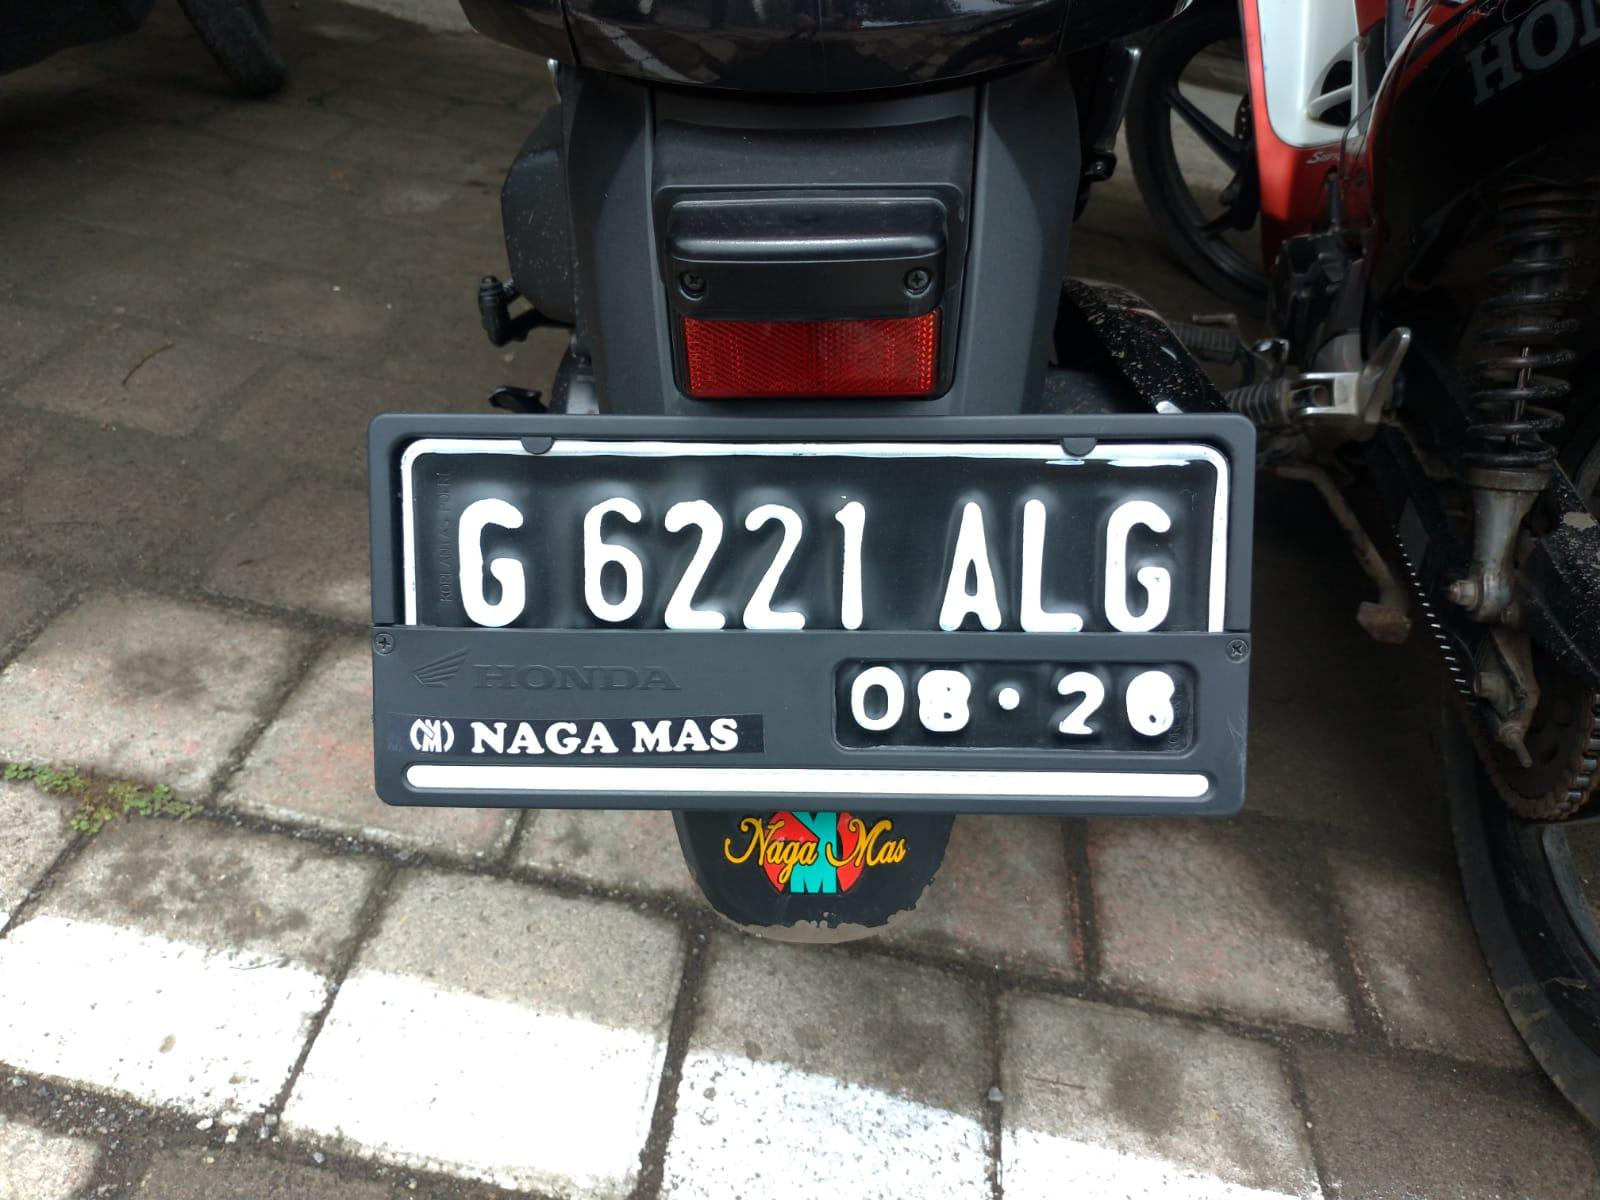plat: (369, 412, 1254, 866)
